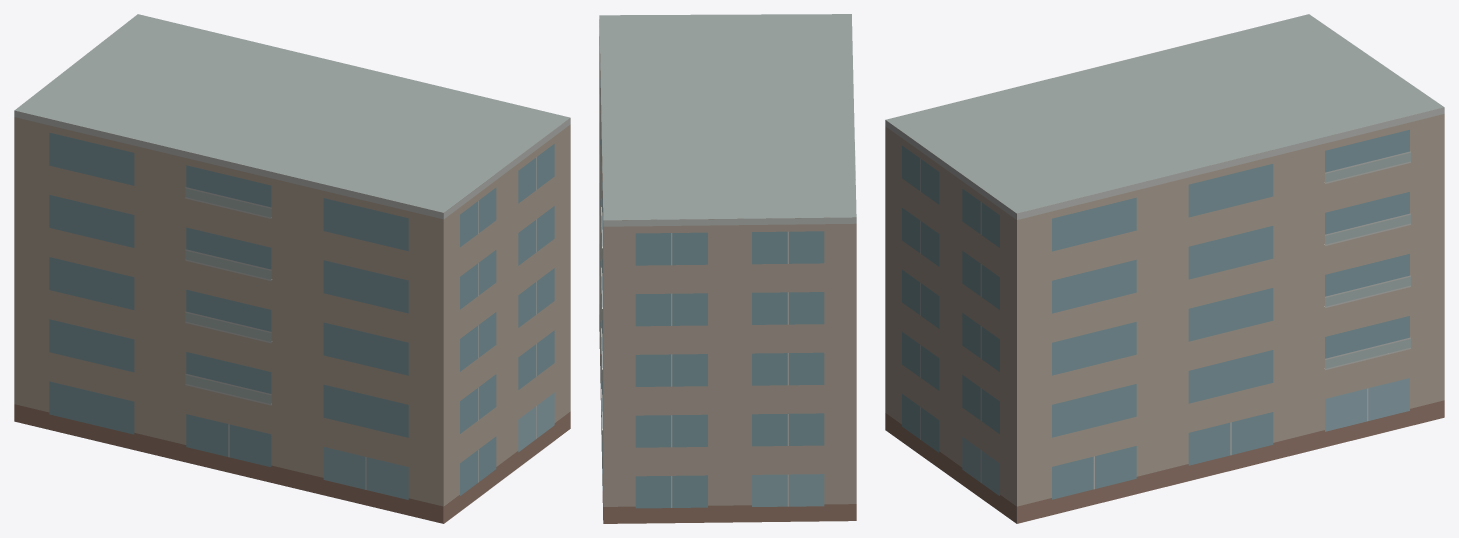
Rendered from survey-upis-32522870.glb.
The picture shows the model from 3 angles, left to right: view 1: azimuth 30°, elevation 25°; view 2: azimuth 150°, elevation 25°; view 3: azimuth 270°, elevation 25°; orthographic projection. The views are drawn at different scales.
Parts seen in each view (by area): view 1: survey-upis-32522870.tmp; view 2: survey-upis-32522870.tmp; view 3: survey-upis-32522870.tmp.
Part boxes in pixels (<box>): survey-upis-32522870.tmp: <box>14,14,570,523</box>; survey-upis-32522870.tmp: <box>599,14,856,523</box>; survey-upis-32522870.tmp: <box>885,14,1444,523</box>.
Size of the model in its own units: 16.01 by 11.6 by 18.96.
